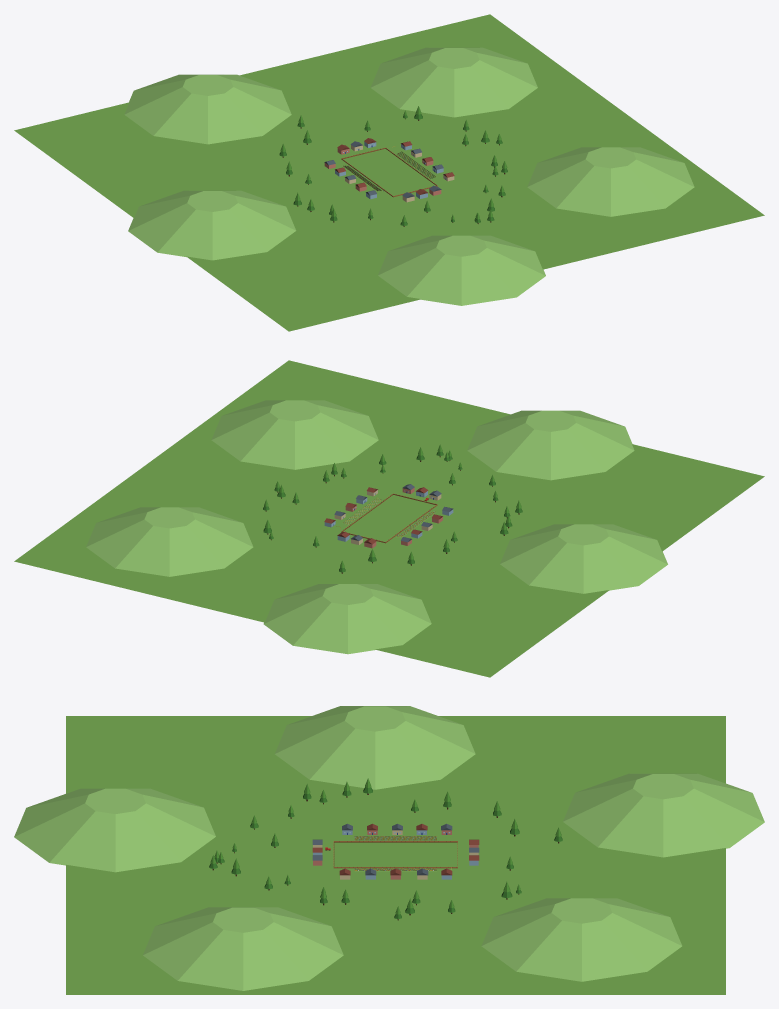
File: backyard.glb
3 renders of one model, top to bottom at view 1: azimuth 30°, elevation 25°; view 2: azimuth 150°, elevation 25°; view 3: azimuth 270°, elevation 25°, orthographic. The views are drawn at different scales.
Parts seen in each view (by area): view 1: backyard; view 2: backyard; view 3: backyard.
Boxes of the visible parts, x1,y1,x2,y2 form: backyard: (14,14,764,331); backyard: (14,360,764,677); backyard: (14,706,764,994).
Bounding box in the file's own units: 663 × 30.5 × 728.
22 materials, 1 textured.
